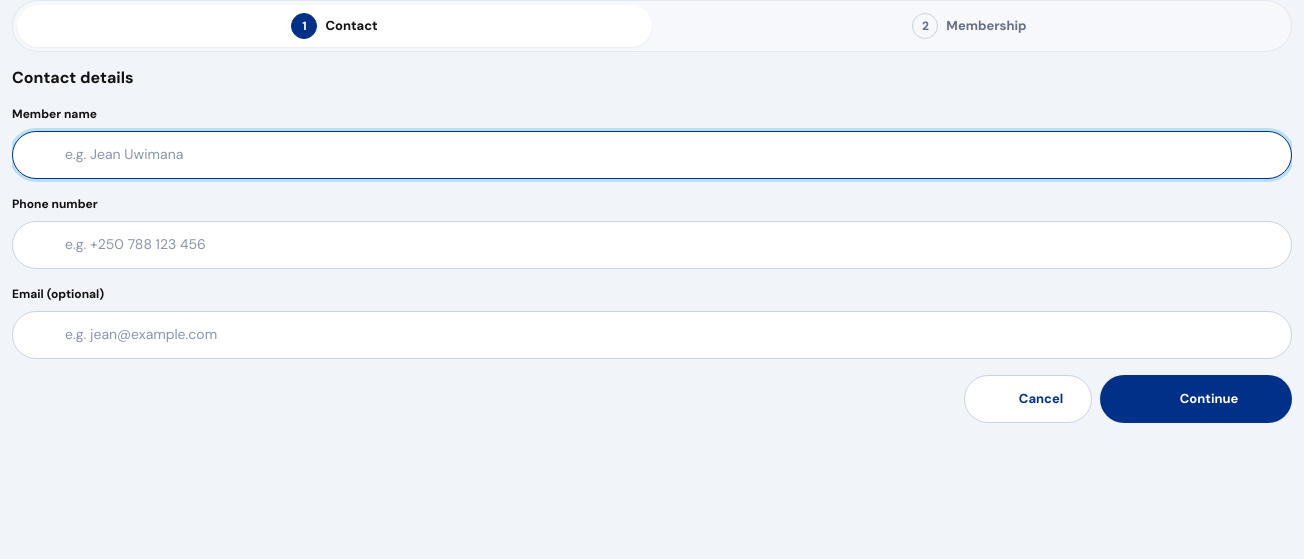
Test: shared member form › separates contact details from membership terms
This screenshot has width=1304, height=559.
Expected: the heading "Contact details" is shown, 12,67 -> 134,88
Expected: the field labelled "Membership plan" is not shown
Type "Example Member" into the field labelled "Member name". click: (674, 155)
box: 57,132 -> 1291,178
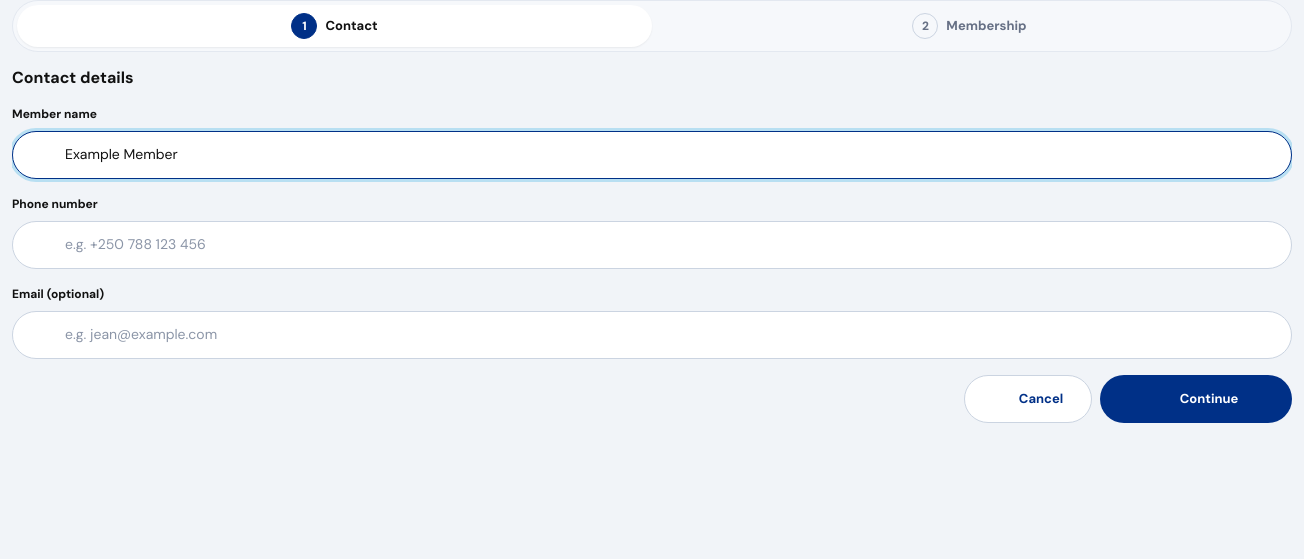
Type "0700000001" into the field labelled "Phone number". click: (674, 245)
box: 57,222 -> 1291,268
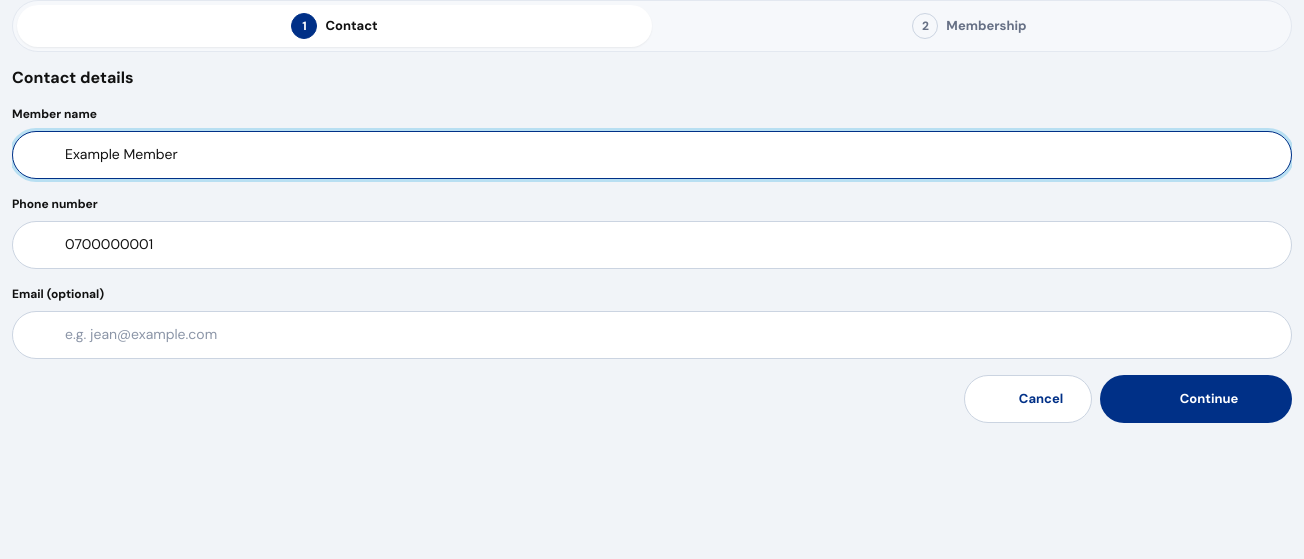
Click the button "Continue". click: click(1196, 399)
box: 1100,375 -> 1292,423
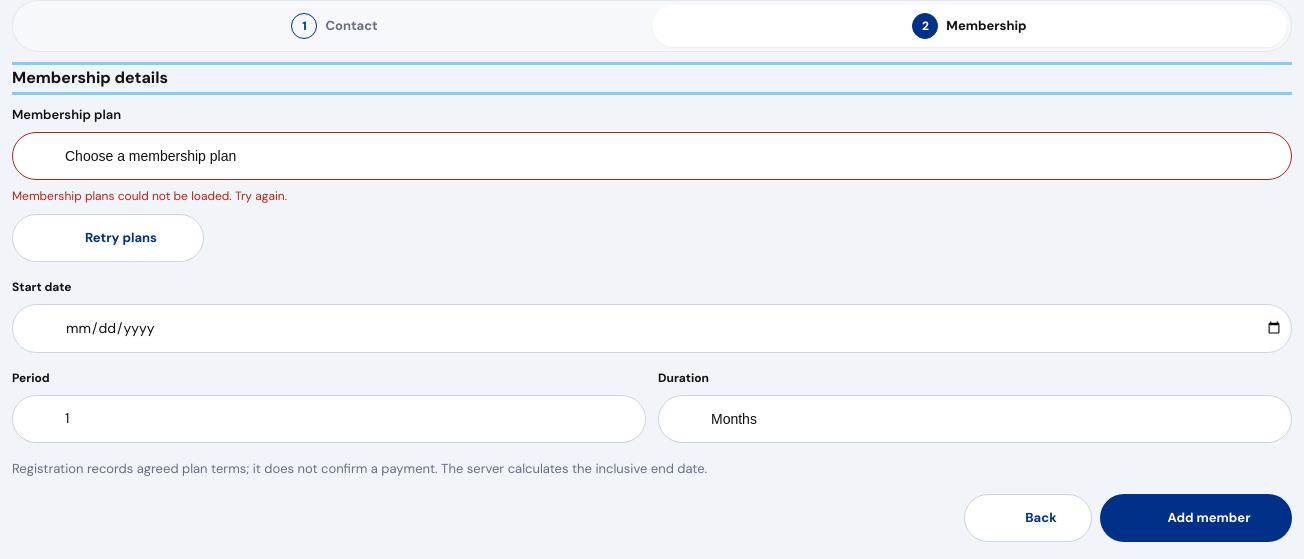
Expected: the heading "Membership details" is shown, 12,67 -> 168,88
Expected: the dropdown labelled "Membership plan" is shown, 57,133 -> 1251,179
Expected: the dropdown labelled "Duration" is shown, 703,396 -> 1251,442
